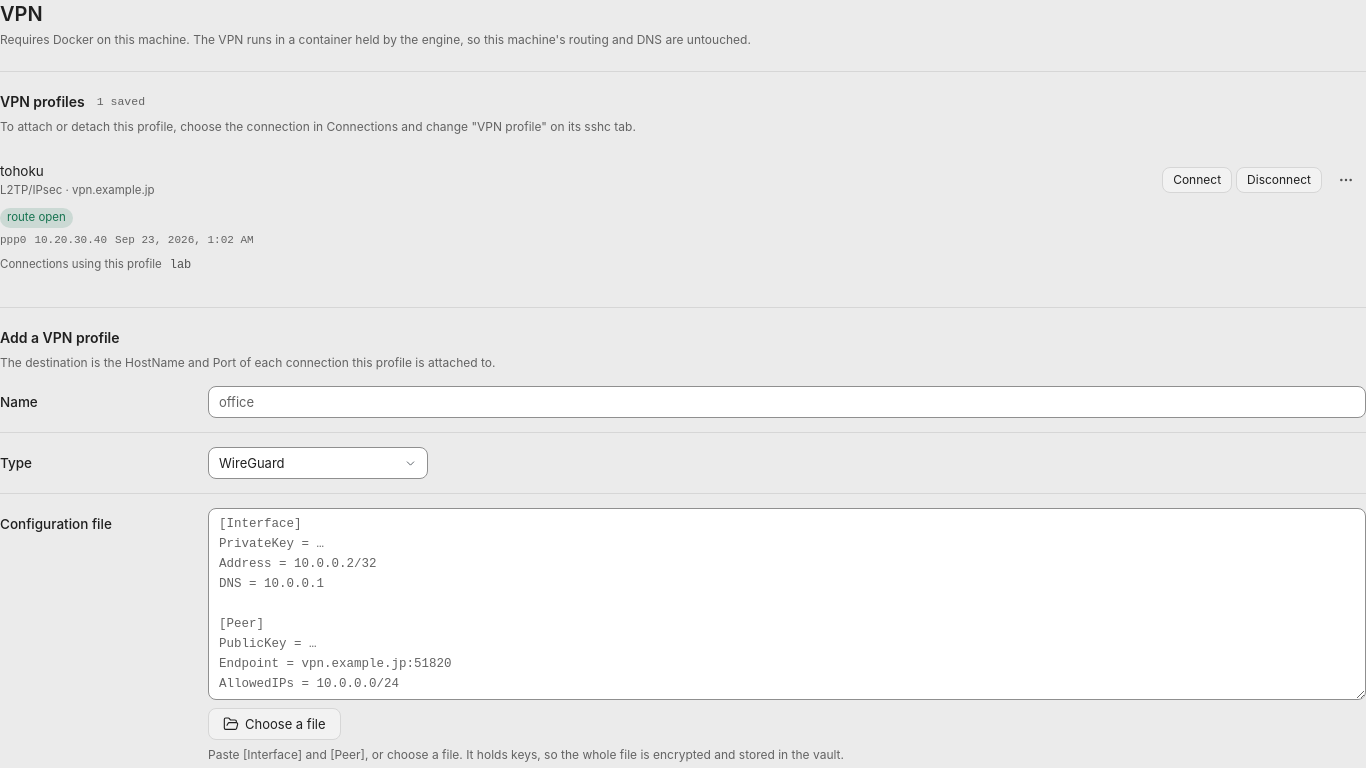
Test: VPNPanel › shows the container's output without sending anyone to docker
Click the button named "Actions for tohoku": (1346, 180) [1326, 160, 1365, 200]
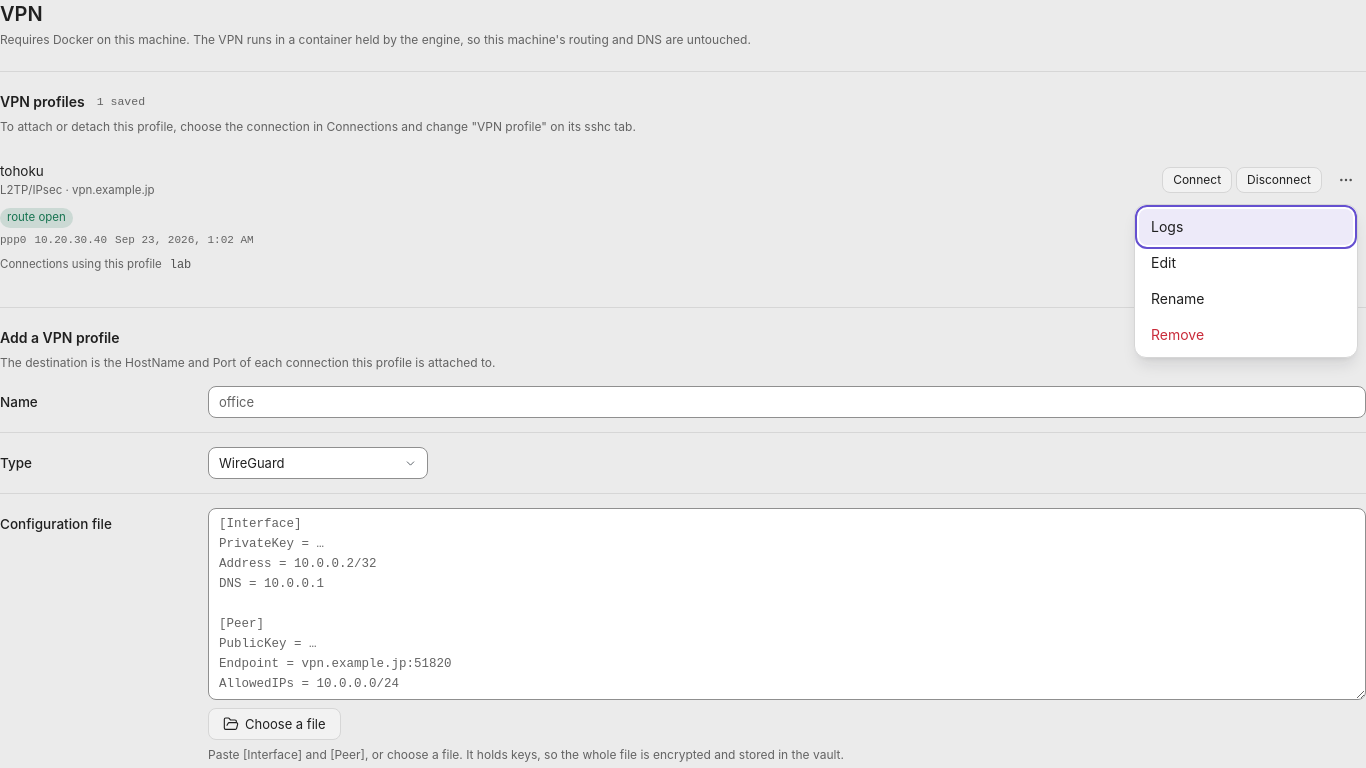
Click the menu item "Logs": (1246, 227) [1139, 209, 1353, 245]
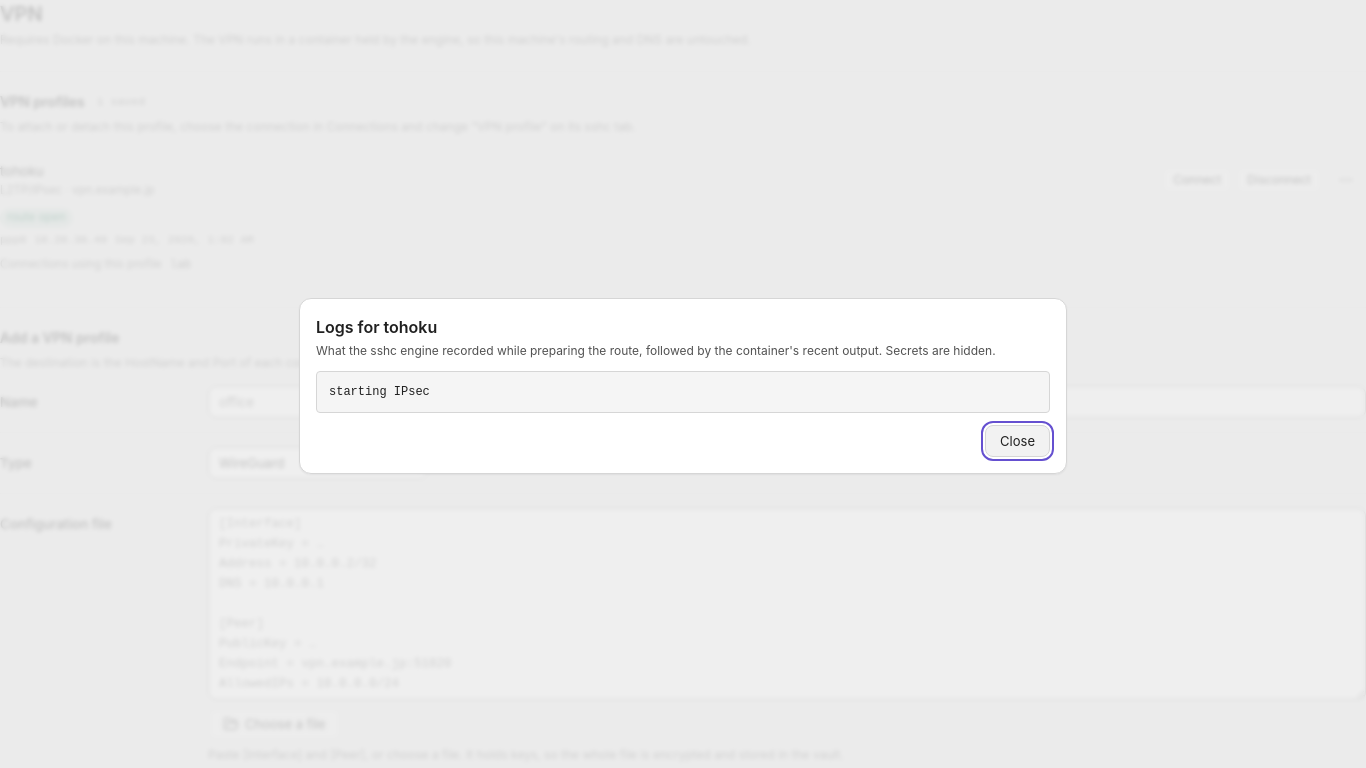
Now the text "starting IPsec" is shown, box [316, 371, 1050, 413]
